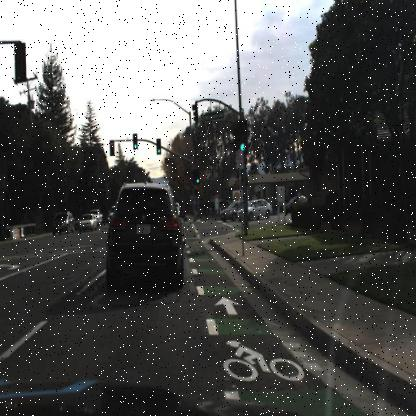car: (99, 175, 189, 302), (49, 208, 75, 241), (237, 198, 274, 221), (76, 209, 96, 236), (282, 194, 308, 213)
trafficLight: (108, 134, 115, 158)
trafficLight-Green: (235, 118, 250, 157), (133, 132, 138, 148), (156, 137, 161, 153), (195, 171, 200, 186)
